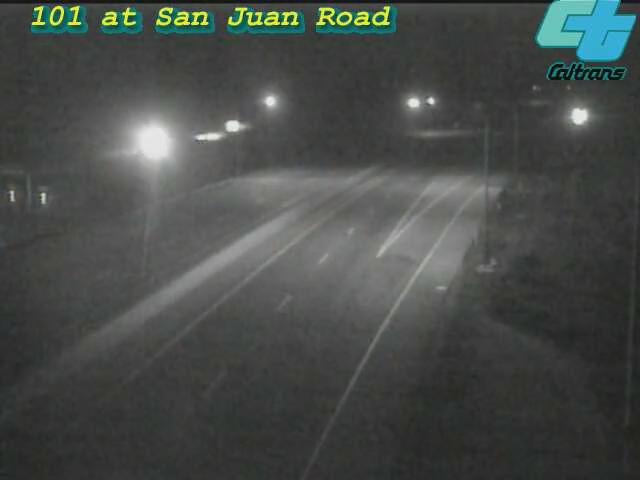vehicle: (551, 92, 601, 142)
